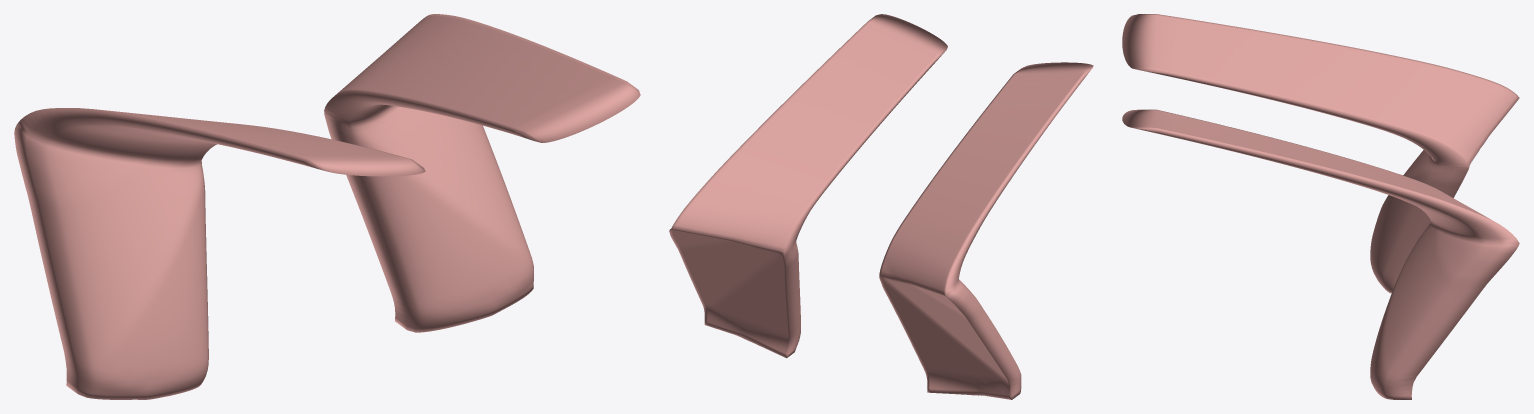
The model's file is depressor_septi.glb.
3 views of the same model, side by side, from view 1: azimuth 30°, elevation 25°; view 2: azimuth 150°, elevation 25°; view 3: azimuth 270°, elevation 25° (orthographic). The views are drawn at different scales.
Parts seen in each view (by area): view 1: depressor_septi_R, depressor_septi_L; view 2: depressor_septi_L, depressor_septi_R; view 3: depressor_septi_R, depressor_septi_L.
Boxes of the visible parts, bbox=[...] form: depressor_septi_R: bbox=[14, 108, 425, 399]; depressor_septi_L: bbox=[324, 14, 640, 332]; depressor_septi_L: bbox=[669, 14, 947, 358]; depressor_septi_R: bbox=[879, 62, 1093, 399]; depressor_septi_R: bbox=[1122, 14, 1519, 293]; depressor_septi_L: bbox=[1122, 109, 1519, 399].
Bounding box in the file's own units: 0.011 × 0.00821 × 0.0113.
